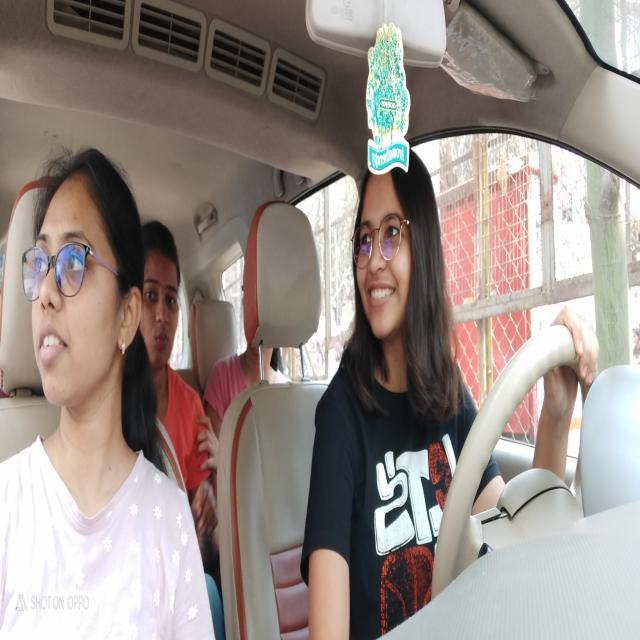LeftRight: (352, 140, 445, 386)
person: (25, 137, 142, 432), (135, 216, 186, 378)
